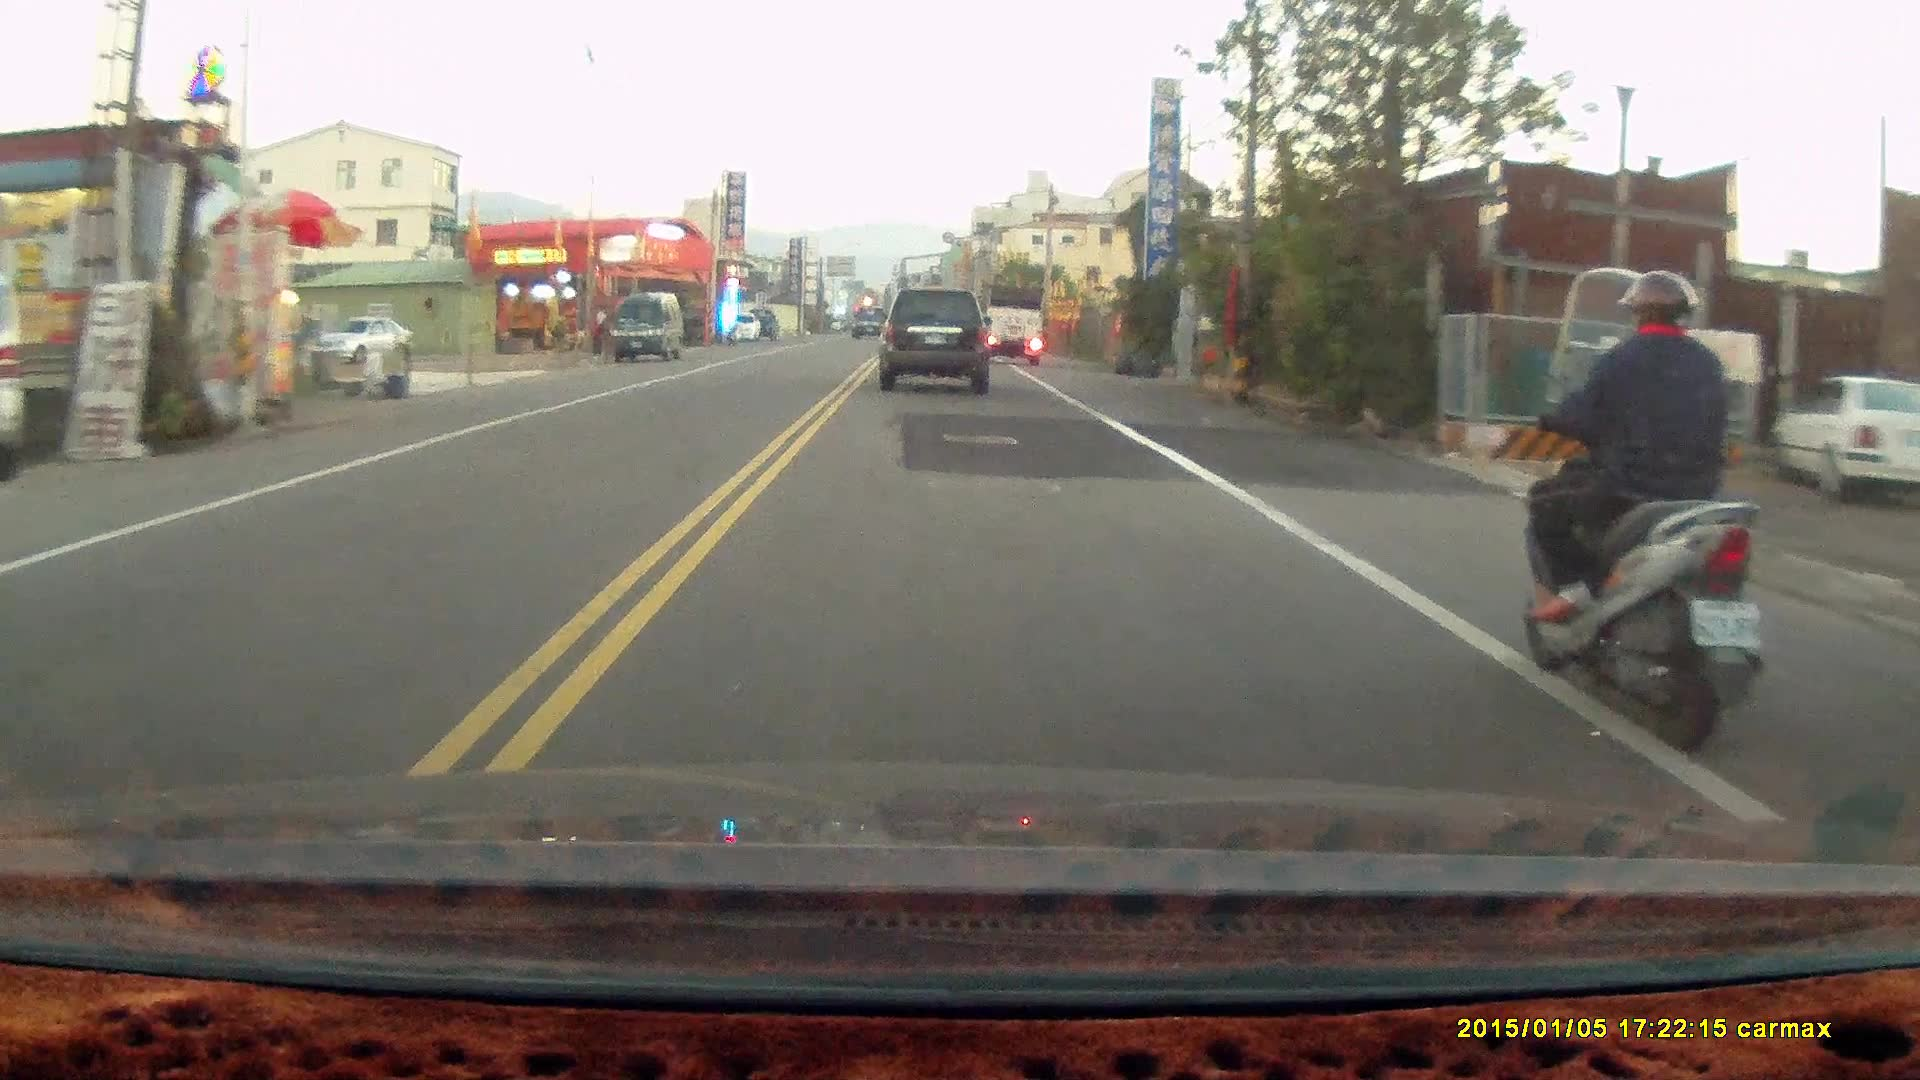rider: (1517, 264, 1765, 752)
vehicle: (879, 288, 995, 399), (610, 295, 684, 367), (984, 284, 1047, 364), (313, 316, 414, 364)
